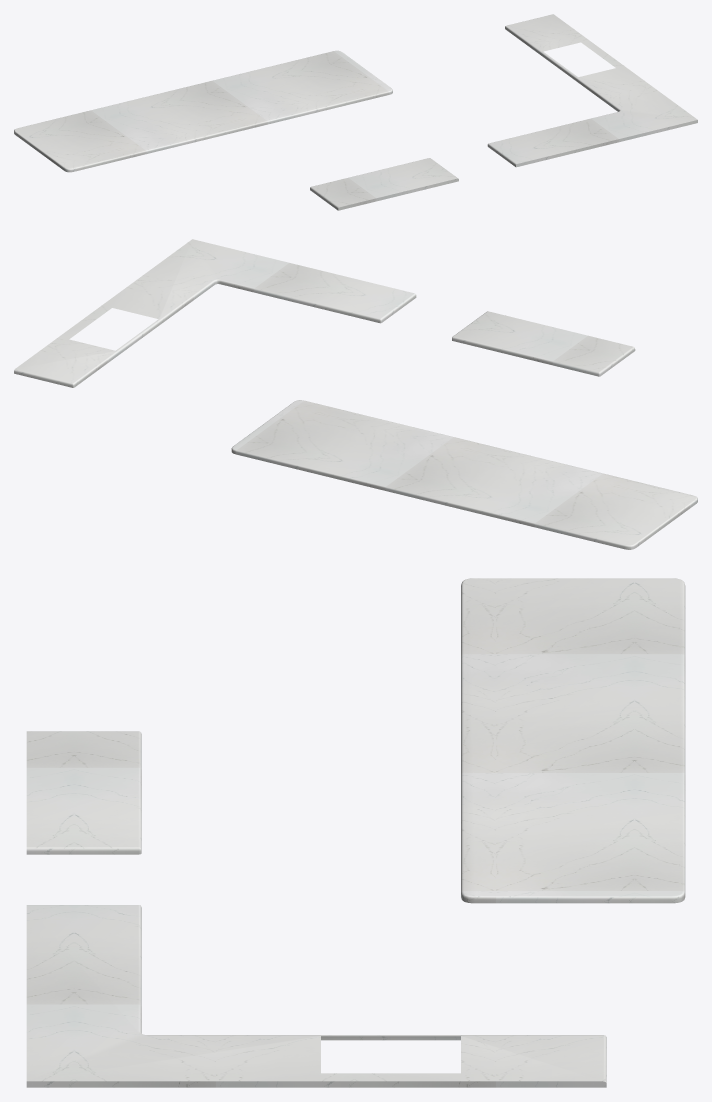
File: Countertops_QuartzCalacattaUltra.glb
The picture shows the model from 3 angles, top to bottom: view 1: azimuth 30°, elevation 25°; view 2: azimuth 150°, elevation 25°; view 3: azimuth 270°, elevation 25°; orthographic projection. The views are drawn at different scales.
Parts seen in each view (by area): view 1: Countertops_Quartz Calacatta Ultra; view 2: Countertops_Quartz Calacatta Ultra; view 3: Countertops_Quartz Calacatta Ultra.
Part boxes in pixels (x1,y1,x2,y2): Countertops_Quartz Calacatta Ultra: [14, 14, 697, 210]; Countertops_Quartz Calacatta Ultra: [14, 239, 697, 549]; Countertops_Quartz Calacatta Ultra: [26, 578, 685, 1087].
Size of the model in its own units: 8.6 by 0.09 by 4.7.
1 material, 1 textured.
